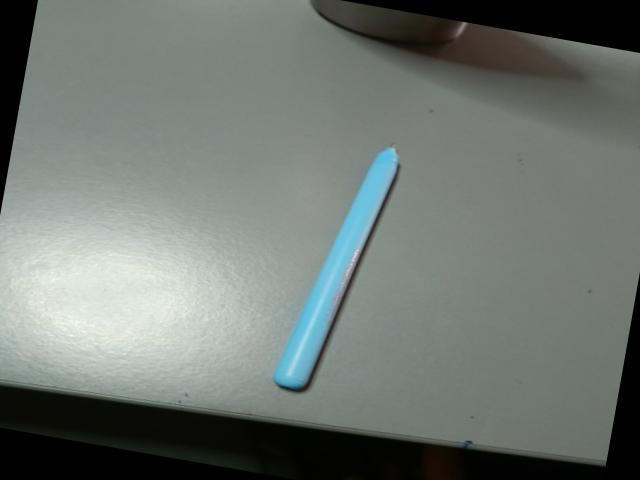PEN: (271, 130, 415, 403)
